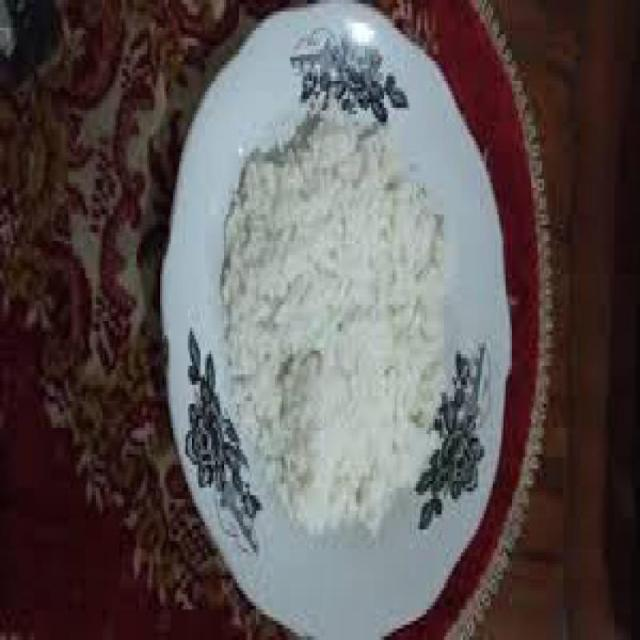nasi_putih: (224, 111, 446, 542)
